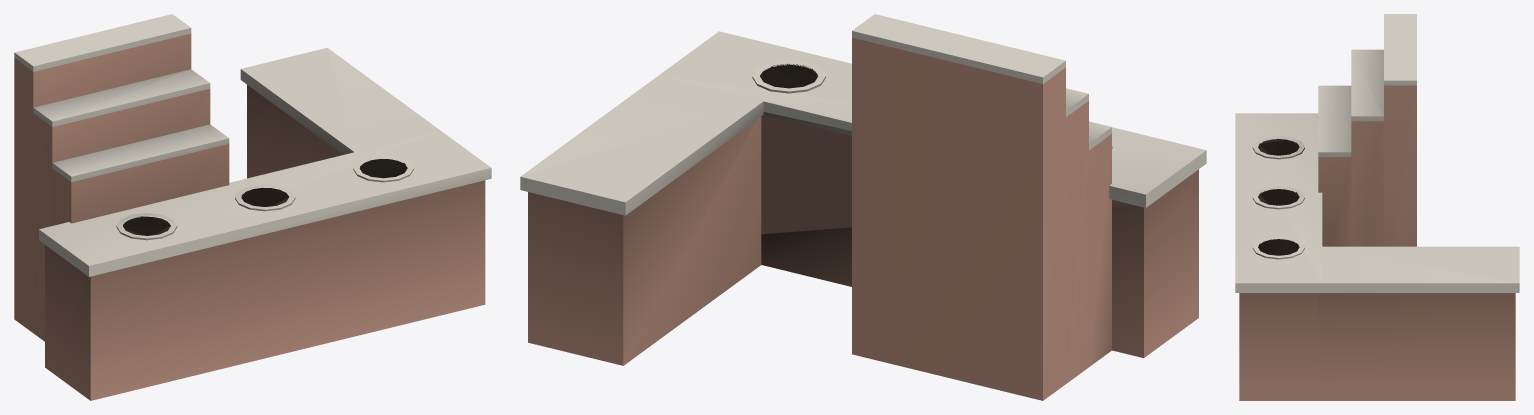
File: rome_counter.glb
3 views of the same model, side by side, from view 1: azimuth 30°, elevation 25°; view 2: azimuth 150°, elevation 25°; view 3: azimuth 270°, elevation 25° (orthographic). The views are drawn at different scales.
Parts seen in each view (by area): view 1: rome_counter; view 2: rome_counter; view 3: rome_counter.
Part boxes in pixels (x1,y1,x2,y2): rome_counter: (14,14,491,400); rome_counter: (520,14,1206,400); rome_counter: (1235,14,1519,400).
Size of the model in its own units: 3.06 by 1.94 by 2.16.
